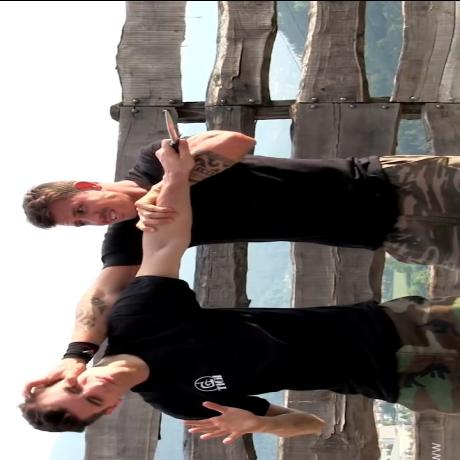1: (18, 274, 460, 443), (18, 126, 460, 264)
weapon: (163, 110, 181, 153)
